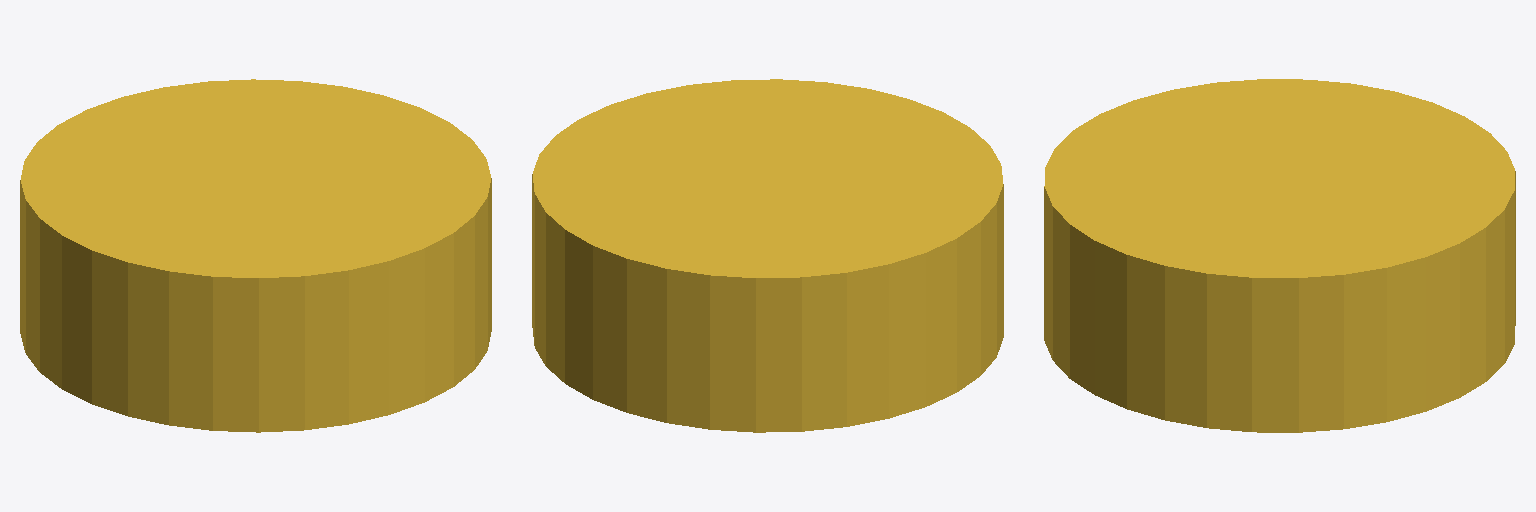
The robot description file, URDF, robot "Interference":
<?xml version="1.0"?>
<robot name="Interference">
  <link name="baseLink">
    <inertial>
      <origin xyz="0.0 0.0 0.0" rpy="0.0 0.0 0.0"/>
      <inertia ixx="0.0" ixy="0.0" ixz="0.0" iyy="0.0" iyz="0.0" izz="0.0"/>
      <mass value="0"/>
    </inertial>
    <visual>
      <origin xyz="0.0 0.0 0.0" rpy="0.0 0.0 -0.11738782914450585"/>
      <geometry>
        <cylinder radius="0.013848767372073495" length="0.01"/>
      </geometry>
      <material name="color">
        <color rgba="0.9123321021127847 0.7656293652278442 0.2762226771140285 1.0"/>
      </material>
    </visual>
  </link>
</robot>

--- Facts derived from the render (not from the file) ---
Views: 3 orthographic renders of the robot side by side, from view 1: azimuth 30°, elevation 25°; view 2: azimuth 150°, elevation 25°; view 3: azimuth 270°, elevation 25°.
Model Interference with 1 links and 0 joints (none), rooted at baseLink, posed every joint at zero.
Links seen in each view (by area): view 1: baseLink; view 2: baseLink; view 3: baseLink.
Link boxes in pixels (<box>): baseLink: <box>20,79,491,432</box>; baseLink: <box>532,79,1003,432</box>; baseLink: <box>1044,79,1515,432</box>.
Bounding box of the posed robot: 0.0276 × 0.0276 × 0.01 m (x, y, z).
Geometry: primitives only (box / cylinder / sphere), no mesh files.